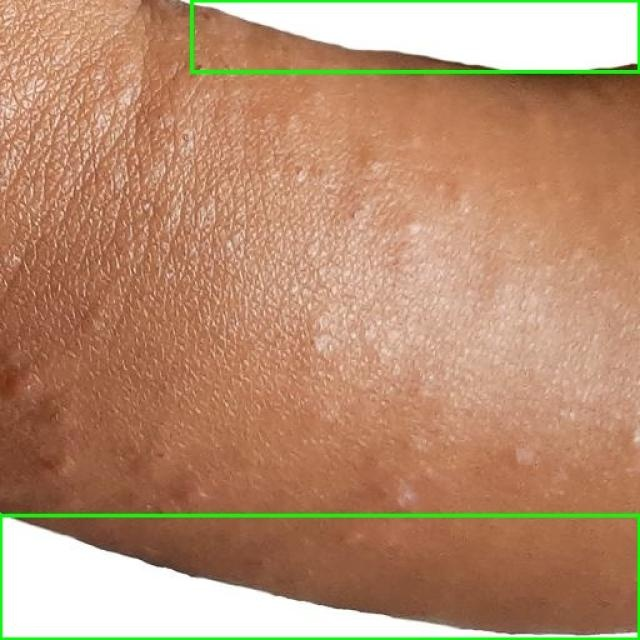Contact Dermatitis: (0, 515, 639, 639), (191, 0, 639, 71)
